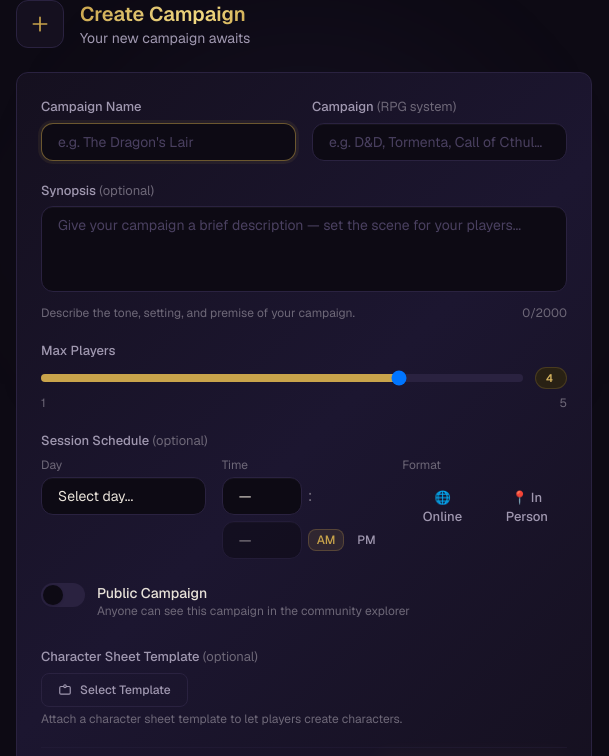
Scenario: NewAdventurePage › disables submit until name and campaign are filled
The width and height of the screenshot is (609, 756).
Type "The Lair" into the field labelled "Campaign Name". click: point(168, 142)
box: [41,122,296,161]
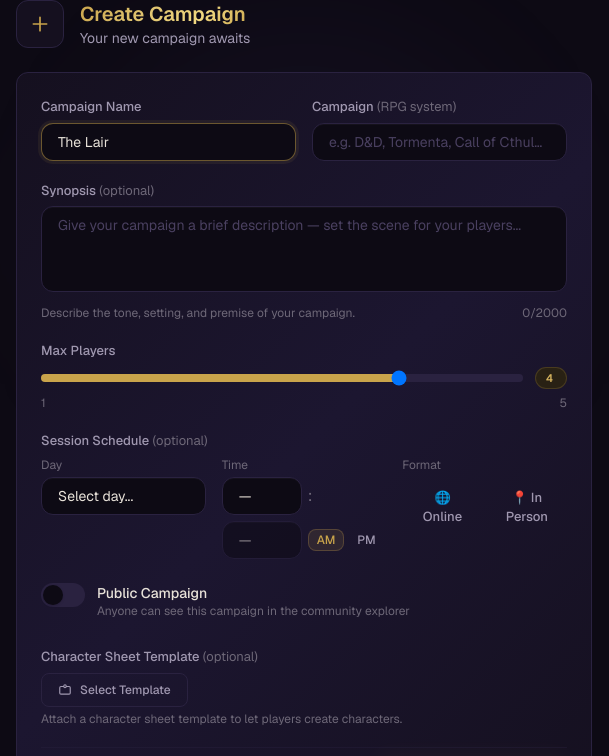
Type "D&D" into the field labelled "Campaign (RPG system)". click: point(440, 142)
box: [312,122,567,161]
(page scrolled)
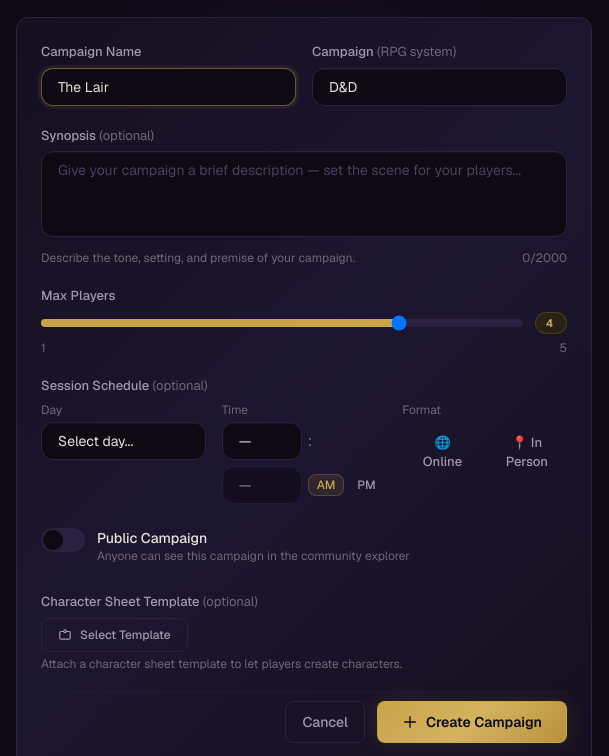
Check: the button "Create Campaign" is enabled, box [377,701,567,743]
